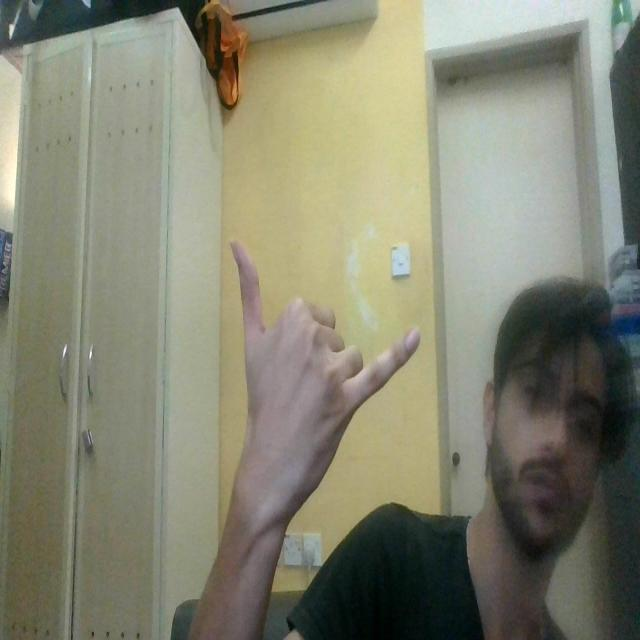shaka: (228, 227, 426, 552)
